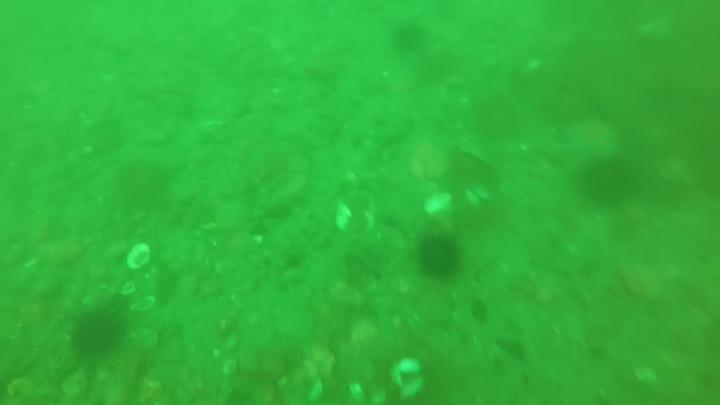echinus: (569, 159, 646, 207), (68, 316, 130, 361), (406, 237, 470, 275), (394, 17, 426, 51)
scallop: (387, 359, 422, 386), (126, 242, 152, 269), (130, 325, 160, 348), (462, 188, 494, 208), (337, 205, 353, 234), (132, 296, 158, 313), (120, 281, 136, 297), (148, 324, 151, 328)
